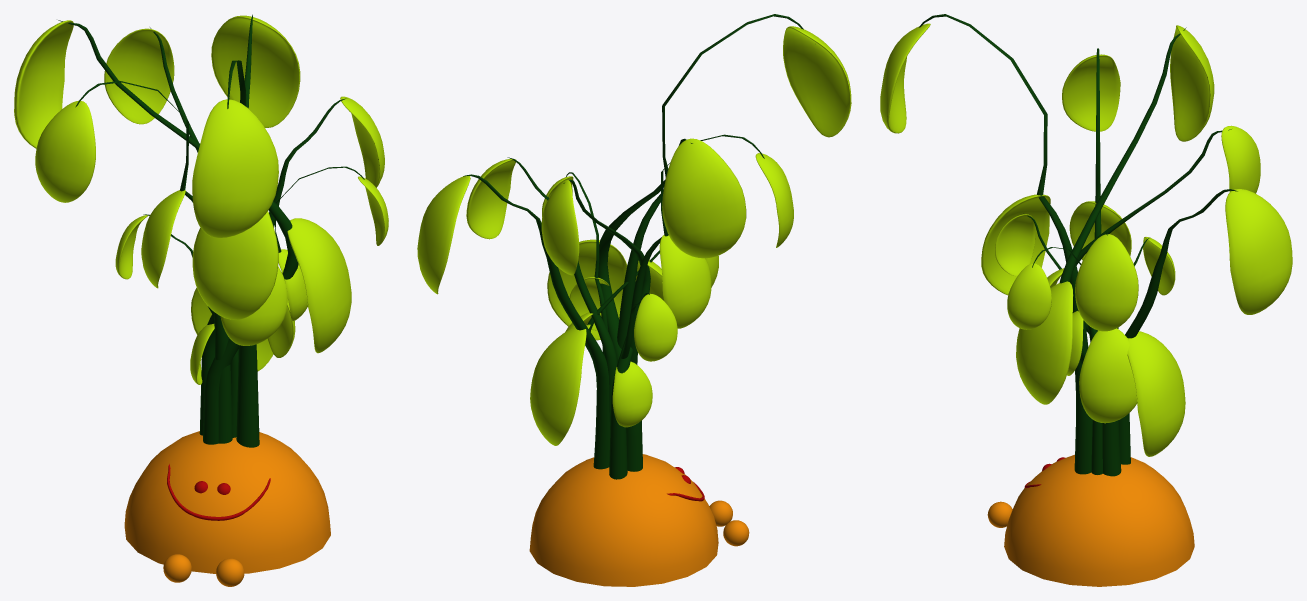
The model's file is ColoredEyes2.fbx.
The picture shows the model from 3 angles, left to right: view 1: azimuth 30°, elevation 25°; view 2: azimuth 150°, elevation 25°; view 3: azimuth 270°, elevation 25°; orthographic projection. The views are drawn at different scales.
Visible parts, largest first — view 1: pSphere1, pasted__pasted__pasted__pSphere2 (×5), pasted__pasted__pSphere2 (×5), pasted__pSphere2 (×3), pSphere2, pasted__pCone1 (×3), pasted__pasted__pCone1 (×2), pCone1, pasted__pasted__pasted__pasted__pSphere2 (×2), pasted__pSphere4, pSphere4, pCylinder1; view 2: pSphere1, pasted__pasted__pasted__pSphere2 (×4), pasted__pSphere2 (×2), pasted__pasted__pasted__pasted__pSphere2 (×2), pasted__pCone1 (×4), pasted__pasted__pSphere2 (×3), pasted__pasted__pCone1 (×2), pSphere2, pCone1, pasted__pSphere4; view 3: pasted__pasted__pasted__pSphere2 (×6), pSphere1, pasted__pasted__pSphere2 (×4), pasted__pSphere2 (×3), pasted__pCone1 (×3), pasted__pasted__pasted__pasted__pSphere2, pasted__pasted__pCone1 (×2), pSphere2, pCone1.
Part boxes in pixels (x1=…): pSphere1: x1=124, y1=431, x2=330, y2=573; pasted__pasted__pasted__pSphere2 (×5): x1=14, y1=15, x2=351, y2=357; pasted__pasted__pSphere2 (×5): x1=104, y1=28, x2=384, y2=345; pasted__pSphere2 (×3): x1=141, y1=99, x2=388, y2=288; pSphere2: x1=35, y1=100, x2=95, y2=202; pasted__pCone1 (×3): x1=150, y1=27, x2=346, y2=447; pasted__pasted__pCone1 (×2): x1=58, y1=20, x2=298, y2=444; pCone1: x1=75, y1=80, x2=232, y2=443; pasted__pasted__pasted__pasted__pSphere2 (×2): x1=190, y1=287, x2=273, y2=384; pasted__pSphere4: x1=163, y1=554, x2=191, y2=582; pSphere4: x1=216, y1=558, x2=244, y2=586; pCylinder1: x1=167, y1=464, x2=270, y2=520; pSphere1: x1=529, y1=454, x2=718, y2=586; pasted__pasted__pasted__pSphere2 (×4): x1=417, y1=138, x2=746, y2=361; pasted__pSphere2 (×2): x1=659, y1=26, x2=851, y2=328; pasted__pasted__pasted__pasted__pSphere2 (×2): x1=530, y1=327, x2=652, y2=445; pasted__pCone1 (×4): x1=507, y1=14, x2=803, y2=479; pasted__pasted__pSphere2 (×3): x1=466, y1=159, x2=612, y2=330; pasted__pasted__pCone1 (×2): x1=463, y1=138, x2=692, y2=471; pSphere2: x1=755, y1=153, x2=793, y2=247; pCone1: x1=630, y1=134, x2=764, y2=364; pasted__pSphere4: x1=723, y1=520, x2=749, y2=546; pasted__pasted__pasted__pSphere2 (×6): x1=995, y1=25, x2=1292, y2=423; pSphere1: x1=1004, y1=454, x2=1194, y2=586; pasted__pasted__pSphere2 (×4): x1=981, y1=125, x2=1260, y2=375; pasted__pSphere2 (×3): x1=880, y1=23, x2=1131, y2=329; pasted__pCone1 (×3): x1=919, y1=14, x2=1231, y2=474; pasted__pasted__pasted__pasted__pSphere2: x1=1127, y1=331, x2=1185, y2=456; pasted__pasted__pCone1 (×2): x1=1059, y1=27, x2=1237, y2=476; pSphere2: x1=1062, y1=54, x2=1120, y2=131; pCone1: x1=1094, y1=48, x2=1101, y2=331.
Size of the model in its own units: 3.79 by 5.78 by 4.33.
